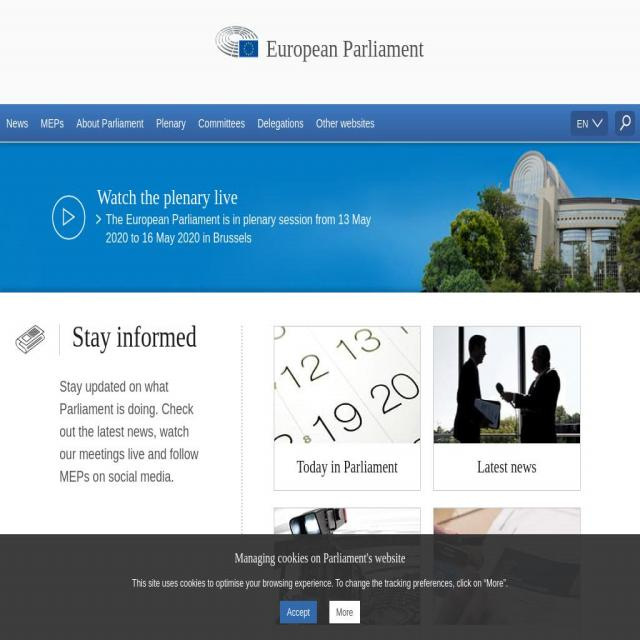language: (572, 113, 606, 135)
navigation-blocks: (272, 325, 588, 628)
navigation-links: (1, 110, 379, 137)
search: (617, 112, 635, 136)
